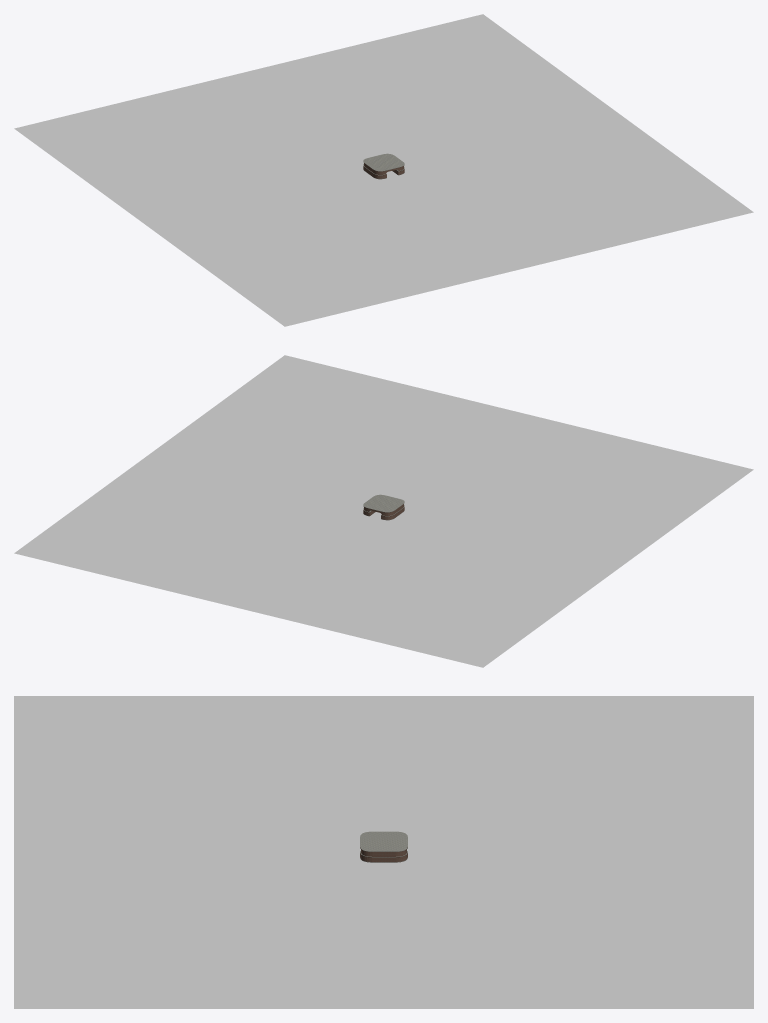
File: flatgrass.gltf
3 renders of one model, top to bottom at view 1: azimuth 30°, elevation 25°; view 2: azimuth 150°, elevation 25°; view 3: azimuth 270°, elevation 25°, orthographic. The views are drawn at different scales.
Visible parts, largest first — view 1: gm_flatgrass; view 2: gm_flatgrass; view 3: gm_flatgrass.
Boxes of the visible parts, x1,y1,x2,y2 form: gm_flatgrass: (14, 14, 753, 326); gm_flatgrass: (14, 355, 753, 667); gm_flatgrass: (14, 696, 753, 1008).
Size of the model in its own units: 317 by 5.12 by 317.
